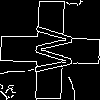W: (25, 25, 73, 75)
